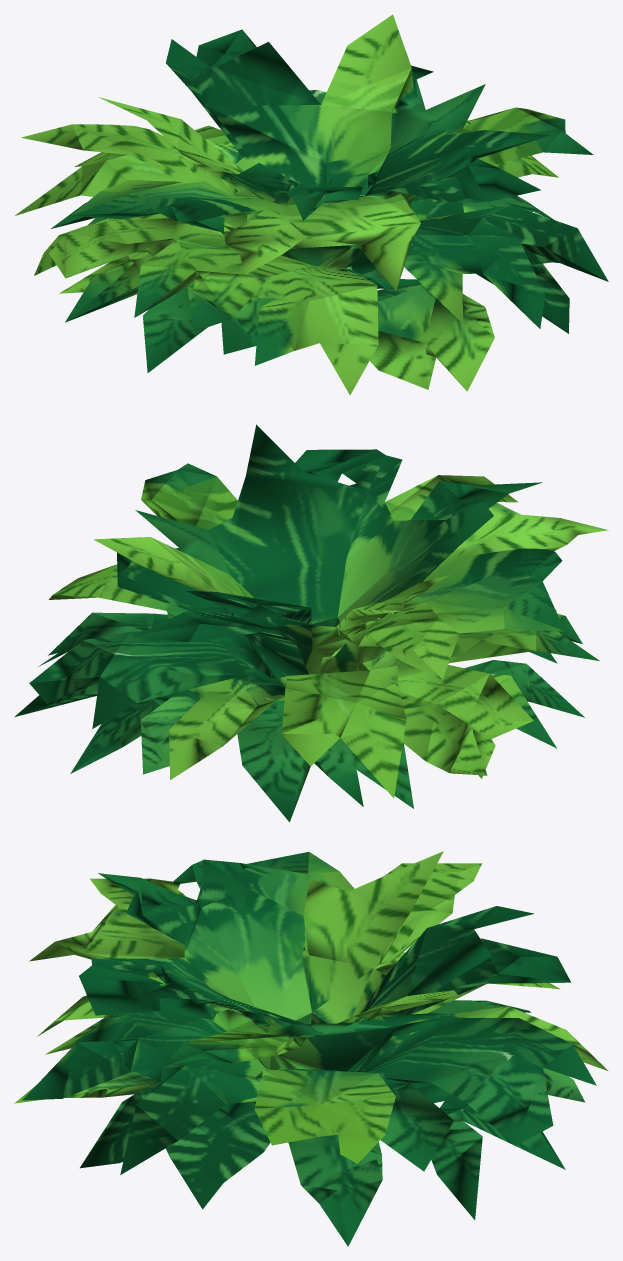
Rendered from fern-bush.glb.
The picture shows the model from 3 angles, top to bottom: view 1: azimuth 30°, elevation 25°; view 2: azimuth 150°, elevation 25°; view 3: azimuth 270°, elevation 25°; orthographic projection.
Visible parts, largest first — view 1: geometry_0; view 2: geometry_0; view 3: geometry_0.
Part boxes in pixels (<box>): geometry_0: <box>15,14,608,395</box>; geometry_0: <box>14,424,608,822</box>; geometry_0: <box>14,851,607,1246</box>.
Bounding box in the file's own units: 0.9919 × 0.381 × 1.
1 material, 1 textured.
